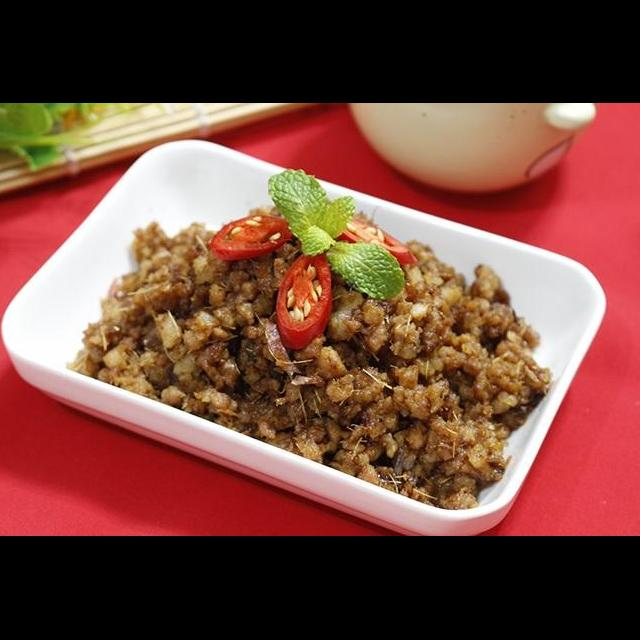thit bam: (59, 189, 560, 516)
